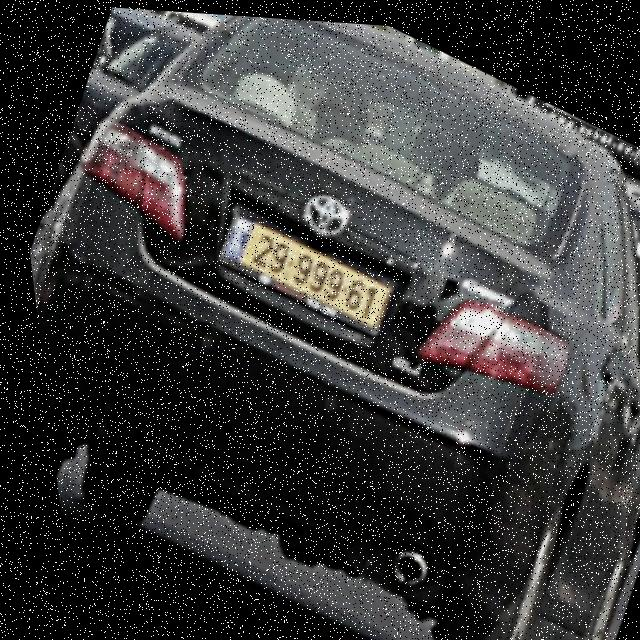license_plate: (201, 202, 396, 338)
